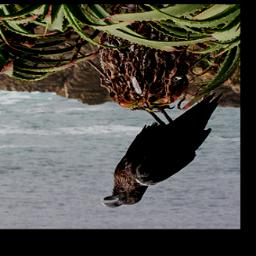Crow: (97, 91, 227, 209)
